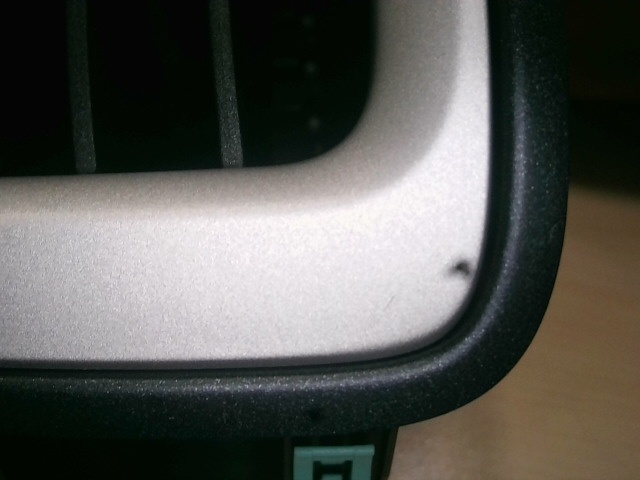NG: (380, 288, 408, 317), (541, 220, 559, 251)
